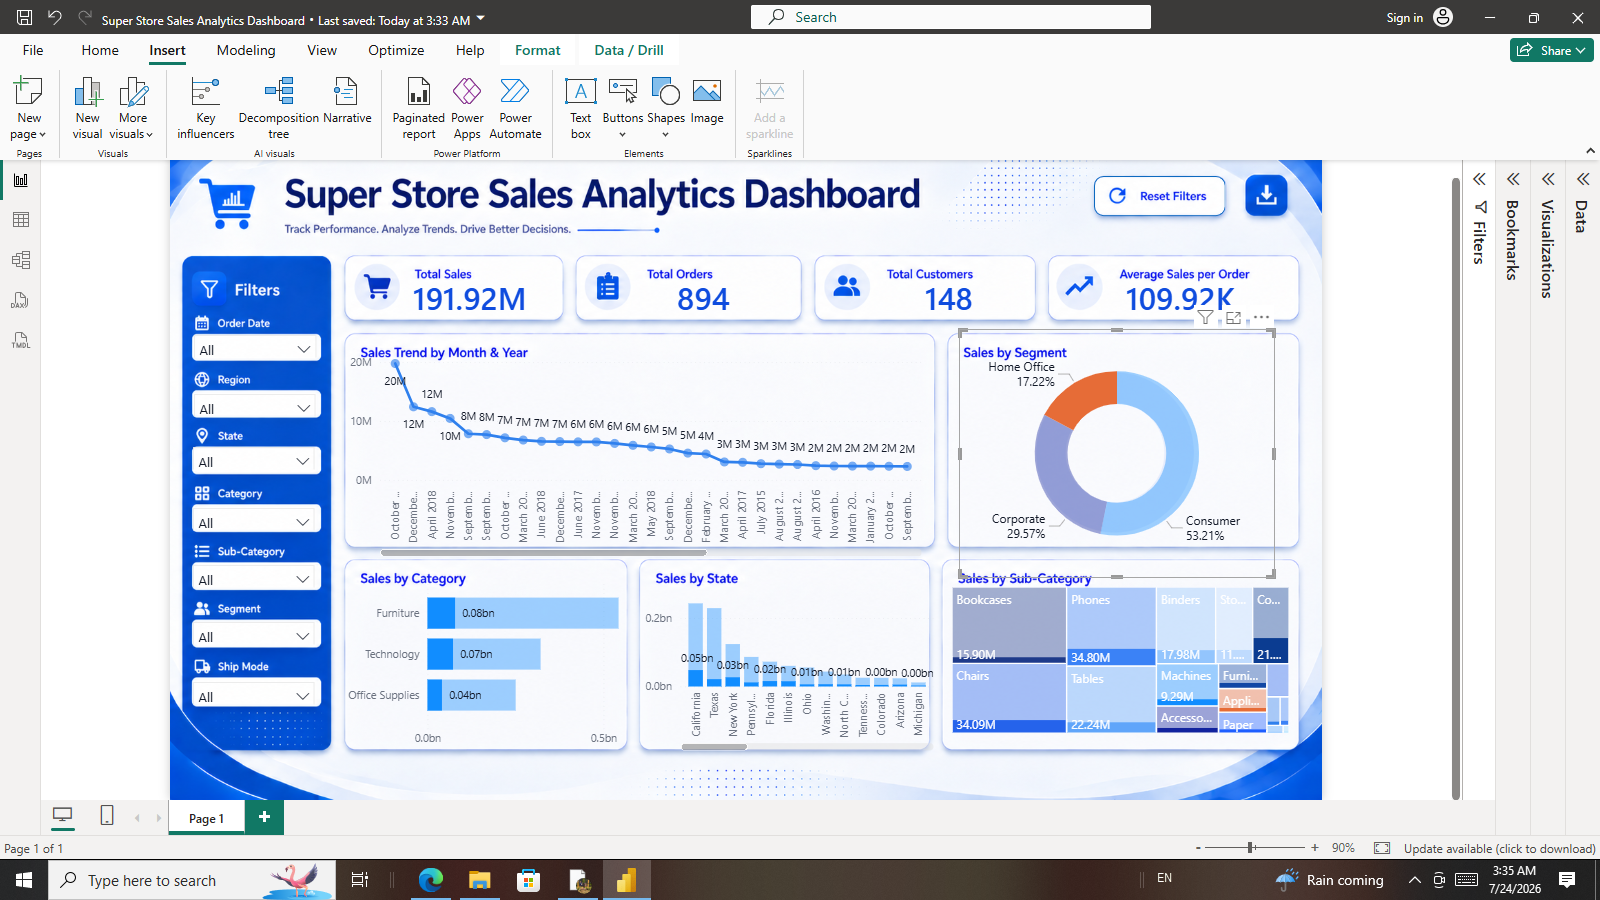

The dashboard page shown, as its layout file describes it:
{"tool":"powerbi","page":{"name":"Page 1","canvas":[1280,720],"ordinal":0},"visuals":[{"type":"cardVisual","fields":{"Data":["Superstore_Sales_Dataset.Total Sales"]},"box":[241.6,119.5,199.2,79.7],"z":0},{"type":"cardVisual","fields":{"Data":["Superstore_Sales_Dataset.Total Orders"]},"box":[534.6,119.5,164.5,79.7],"z":1000},{"type":"cardVisual","fields":{"Data":["Superstore_Sales_Dataset.Total Customers"]},"box":[809.6,119.5,164.5,79.7],"z":2000},{"type":"cardVisual","fields":{"Data":["Superstore_Sales_Dataset.Average Sales"]},"box":[1033.3,119.5,194.1,79.7],"z":3000},{"type":"lineChart","fields":{"Category":["Superstore_Sales_Dataset.Month & Year Order"],"Y":["Sum(Superstore_Sales_Dataset.Sales)"]},"box":[190.2,210.8,655.4,248],"z":4000},{"type":"donutChart","fields":{"Y":["Sum(Superstore_Sales_Dataset.Sales)"],"Category":["Superstore_Sales_Dataset.Segment"]},"box":[876.5,196.6,350.8,276.3],"z":5000},{"type":"clusteredBarChart","fields":{"Category":["Superstore_Sales_Dataset.Category"],"Y":["Sum(Superstore_Sales_Dataset.Sales)"]},"box":[181.2,458.8,383,215.9],"z":6000},{"type":"clusteredColumnChart","fields":{"Category":["Superstore_Sales_Dataset.State"],"Y":["Sum(Superstore_Sales_Dataset.Sales)"]},"box":[517.9,458.8,340.6,215.9],"z":7000},{"type":"treemap","fields":{"Group":["Superstore_Sales_Dataset.Sub-Category"],"Values":["Sum(Superstore_Sales_Dataset.Sales)"]},"box":[858.5,472.9,394.5,182.5],"z":8000},{"type":"slicer","fields":{"Values":["Superstore_Sales_Dataset.Order Date"]},"box":[16.1,192.8,155.6,35],"z":9000},{"type":"slicer","fields":{"Values":["Superstore_Sales_Dataset.Region"]},"box":[16.2,259.2,155.4,34.6],"z":10000},{"type":"slicer","fields":{"Values":["Superstore_Sales_Dataset.State"]},"box":[16,317.3,155.3,34.7],"z":11000},{"type":"slicer","fields":{"Values":["Superstore_Sales_Dataset.Category"]},"box":[16,385.3,155.3,34.7],"z":12000},{"type":"slicer","fields":{"Values":["Superstore_Sales_Dataset.Sub-Category"]},"box":[16,448.7,155.3,34.7],"z":13000},{"type":"slicer","fields":{"Values":["Superstore_Sales_Dataset.Segment"]},"box":[16,512,155.3,34.7],"z":14000},{"type":"slicer","fields":{"Values":["Superstore_Sales_Dataset.Ship Mode"]},"box":[16,578.7,155.3,34.7],"z":15000},{"type":"shape","box":[1026.9,26.2,146.2,44.6],"z":16000}]}

Visuals, with their boxes on the page's 1280x720 design canvas (x1, y1, x2, y2). These are canvas units, not pixel positions in the 1600x900 screenshot, which may show the page scaled, cropped or inside an application window:
cardVisual - Superstore_Sales_Dataset.Total Sales: {"left": 242, "top": 120, "right": 441, "bottom": 199}
cardVisual - Superstore_Sales_Dataset.Total Orders: {"left": 535, "top": 120, "right": 699, "bottom": 199}
cardVisual - Superstore_Sales_Dataset.Total Customers: {"left": 810, "top": 120, "right": 974, "bottom": 199}
cardVisual - Superstore_Sales_Dataset.Average Sales: {"left": 1033, "top": 120, "right": 1227, "bottom": 199}
lineChart - Superstore_Sales_Dataset.Month & Year Order x Sum(Superstore_Sales_Dataset.Sales): {"left": 190, "top": 211, "right": 846, "bottom": 459}
donutChart - Sum(Superstore_Sales_Dataset.Sales) x Superstore_Sales_Dataset.Segment: {"left": 876, "top": 197, "right": 1227, "bottom": 473}
clusteredBarChart - Superstore_Sales_Dataset.Category x Sum(Superstore_Sales_Dataset.Sales): {"left": 181, "top": 459, "right": 564, "bottom": 675}
clusteredColumnChart - Superstore_Sales_Dataset.State x Sum(Superstore_Sales_Dataset.Sales): {"left": 518, "top": 459, "right": 858, "bottom": 675}
treemap - Superstore_Sales_Dataset.Sub-Category x Sum(Superstore_Sales_Dataset.Sales): {"left": 858, "top": 473, "right": 1253, "bottom": 655}
slicer - Superstore_Sales_Dataset.Order Date: {"left": 16, "top": 193, "right": 172, "bottom": 228}
slicer - Superstore_Sales_Dataset.Region: {"left": 16, "top": 259, "right": 172, "bottom": 294}
slicer - Superstore_Sales_Dataset.State: {"left": 16, "top": 317, "right": 171, "bottom": 352}
slicer - Superstore_Sales_Dataset.Category: {"left": 16, "top": 385, "right": 171, "bottom": 420}
slicer - Superstore_Sales_Dataset.Sub-Category: {"left": 16, "top": 449, "right": 171, "bottom": 483}
slicer - Superstore_Sales_Dataset.Segment: {"left": 16, "top": 512, "right": 171, "bottom": 547}
slicer - Superstore_Sales_Dataset.Ship Mode: {"left": 16, "top": 579, "right": 171, "bottom": 613}
shape: {"left": 1027, "top": 26, "right": 1173, "bottom": 71}
